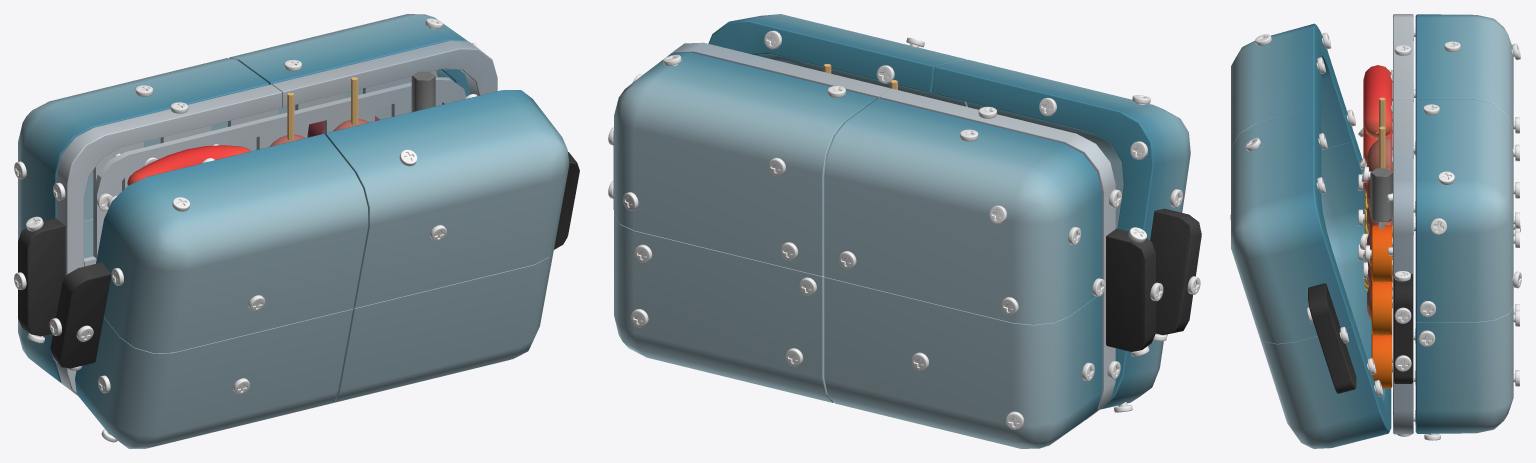
Rendered from Level_181.fbx.
3 renders of one model, left to right at view 1: azimuth 30°, elevation 25°; view 2: azimuth 150°, elevation 25°; view 3: azimuth 270°, elevation 25°, orthographic. The views are drawn at different scales.
Parts seen in each view (by area): view 1: Cube_L1.007, Cube_L1_1.003, Cube_L1_2.003, Cube_L1_3.003, Cube_L2.005, Cube_L4.003, Cube_L4_2.003, Cube_L2_1.003, Cube_L4_1.003, Cube_L2_4.003, Cube_L1_4.003, Cube_L4_5.003 (+4 smaller); view 2: Cube_L2.005, Cube_L2_1.003, Cube_L2_2.003, Cube_L2_3.003, Cube_L1.007, Cube_L1_1.003, Cube_L2_4.003, Cube_L4.003, Cube_L1_4.003, Cube_L4_1.003, Cube_L1_2.003; view 3: Cube_L2_1.003, Cube_L1_1.003, Cube_L2_3.003, Cube_L1_3.003, Cube_L1.007, Cube_L2.005, Cube_L1_2.003, Cube_L4_1.003, Cube_L1_5.003, Cube_L3.003, Cube_L4.003, Cube_L2_5.003 (+7 smaller).
Boxes of the visible parts, bbox=[...] form: Cube_L1.007: bbox=[96, 134, 368, 353]; Cube_L1_1.003: bbox=[325, 90, 569, 308]; Cube_L1_2.003: bbox=[75, 309, 353, 448]; Cube_L1_3.003: bbox=[331, 246, 554, 403]; Cube_L2.005: bbox=[18, 58, 269, 237]; Cube_L4.003: bbox=[56, 84, 282, 396]; Cube_L4_2.003: bbox=[84, 77, 466, 266]; Cube_L2_1.003: bbox=[229, 14, 470, 114]; Cube_L4_1.003: bbox=[272, 40, 497, 107]; Cube_L2_4.003: bbox=[18, 218, 65, 336]; Cube_L1_4.003: bbox=[50, 262, 111, 368]; Cube_L4_5.003: bbox=[93, 70, 437, 196]; Cube_L2.005: bbox=[824, 98, 1102, 324]; Cube_L2_1.003: bbox=[614, 52, 876, 276]; Cube_L2_2.003: bbox=[824, 277, 1102, 448]; Cube_L2_3.003: bbox=[614, 216, 833, 402]; Cube_L1.007: bbox=[932, 60, 1190, 240]; Cube_L1_1.003: bbox=[708, 14, 967, 106]; Cube_L2_4.003: bbox=[1106, 228, 1155, 351]; Cube_L4.003: bbox=[879, 88, 1115, 420]; Cube_L1_4.003: bbox=[1150, 208, 1201, 334]; Cube_L4_1.003: bbox=[671, 42, 890, 98]; Cube_L1_2.003: bbox=[1100, 340, 1163, 409]; Cube_L2_1.003: bbox=[1415, 99, 1513, 322]; Cube_L1_1.003: bbox=[1231, 109, 1352, 343]; Cube_L2_3.003: bbox=[1415, 307, 1513, 433]; Cube_L1_3.003: bbox=[1259, 316, 1391, 448]; Cube_L1.007: bbox=[1231, 23, 1352, 149]; Cube_L2.005: bbox=[1415, 14, 1513, 132]; Cube_L1_2.003: bbox=[1321, 131, 1371, 333]; Cube_L4_1.003: bbox=[1393, 99, 1413, 434]; Cube_L1_5.003: bbox=[1308, 283, 1356, 393]; Cube_L3.003: bbox=[1363, 65, 1392, 139]; Cube_L4.003: bbox=[1393, 14, 1413, 99]; Cube_L2_5.003: bbox=[1394, 273, 1412, 383].
Bounding box in the file's own units: 13.82 × 7.47 × 7.16.
